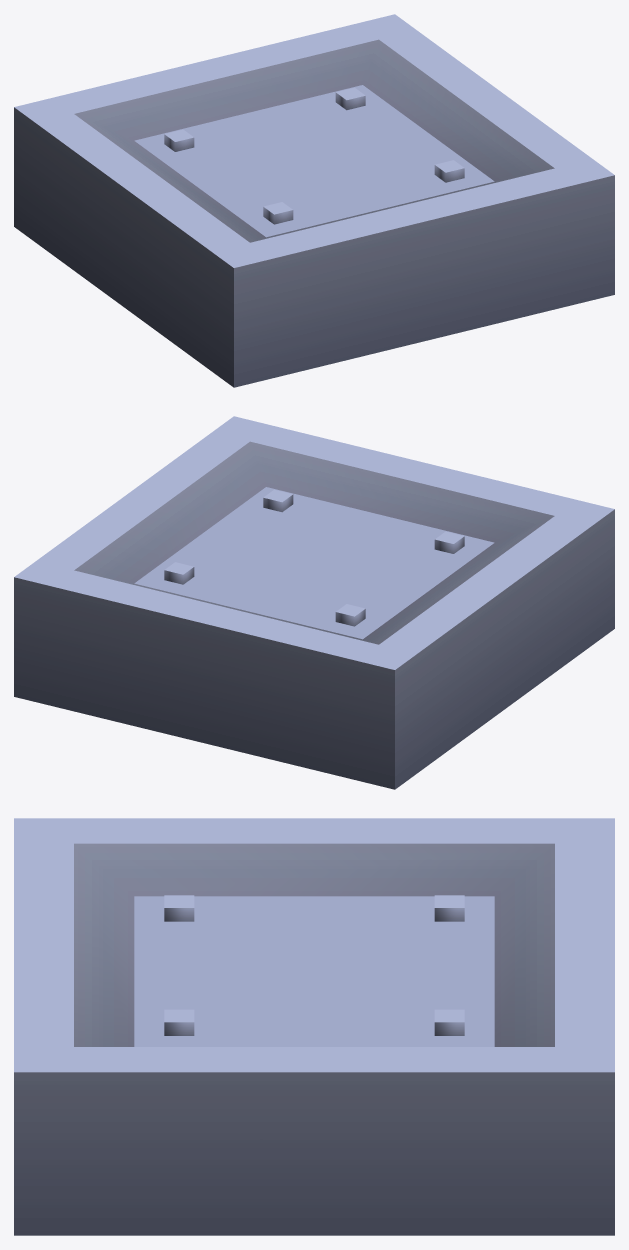
Rendered from floor-panel.glb.
3 views of the same model, one above another, from view 1: azimuth 30°, elevation 25°; view 2: azimuth 150°, elevation 25°; view 3: azimuth 270°, elevation 25° (orthographic). The views are drawn at different scales.
Parts seen in each view (by area): view 1: floor-panel; view 2: floor-panel; view 3: floor-panel.
Boxes of the visible parts, x1,y1,x2,y2 form: floor-panel: [14, 14, 614, 387]; floor-panel: [14, 416, 614, 789]; floor-panel: [14, 818, 614, 1235].
Size of the model in its own units: 1 by 0.3 by 1.
Materials: 1 (1 with a texture image).
